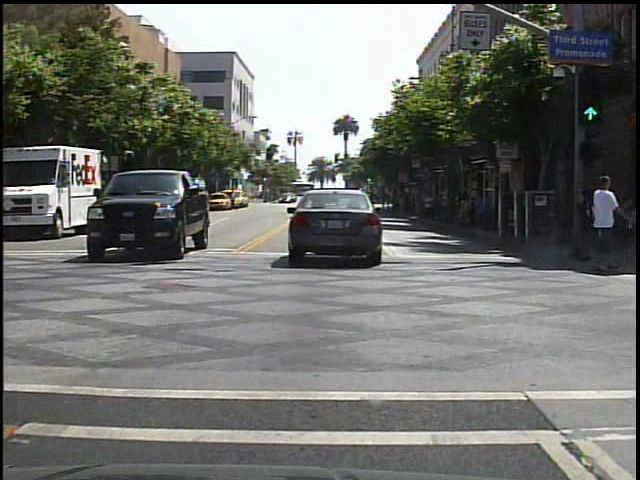person: (586, 164, 626, 271), (583, 172, 614, 267), (419, 189, 438, 223)
